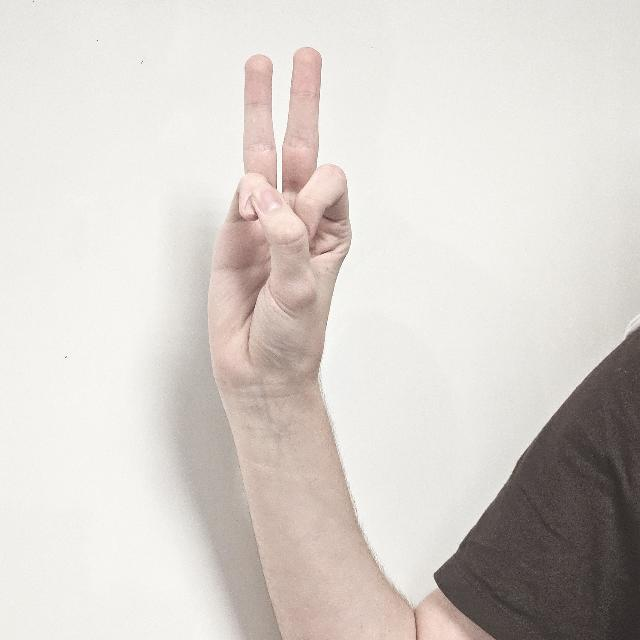R: (208, 45, 354, 422)
